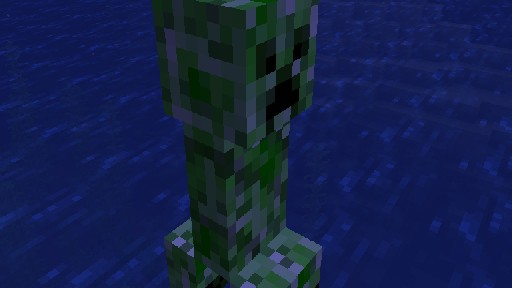creeper: (150, 0, 322, 288)
